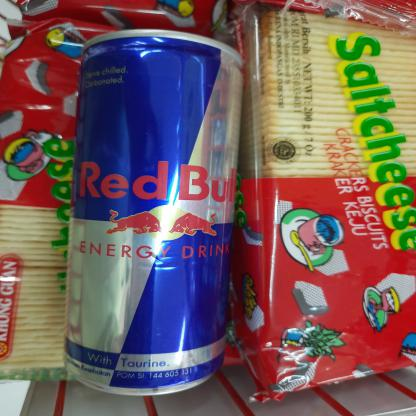mouse: (58, 25, 250, 401)
